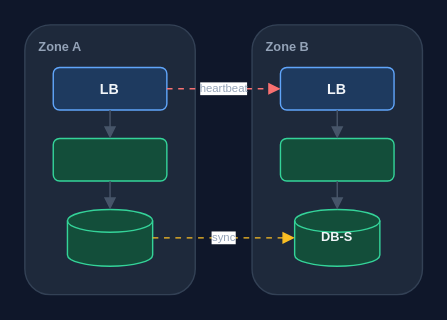
Some shapes in this 447 by 320 pixel diagram are drawn without their labels. The shapes that lost their labels are listed below. From the top down, each one's centre as x and y in pixels, then its label:
point 109,159: App-1
point 336,159: App-2
point 109,237: DB-M
